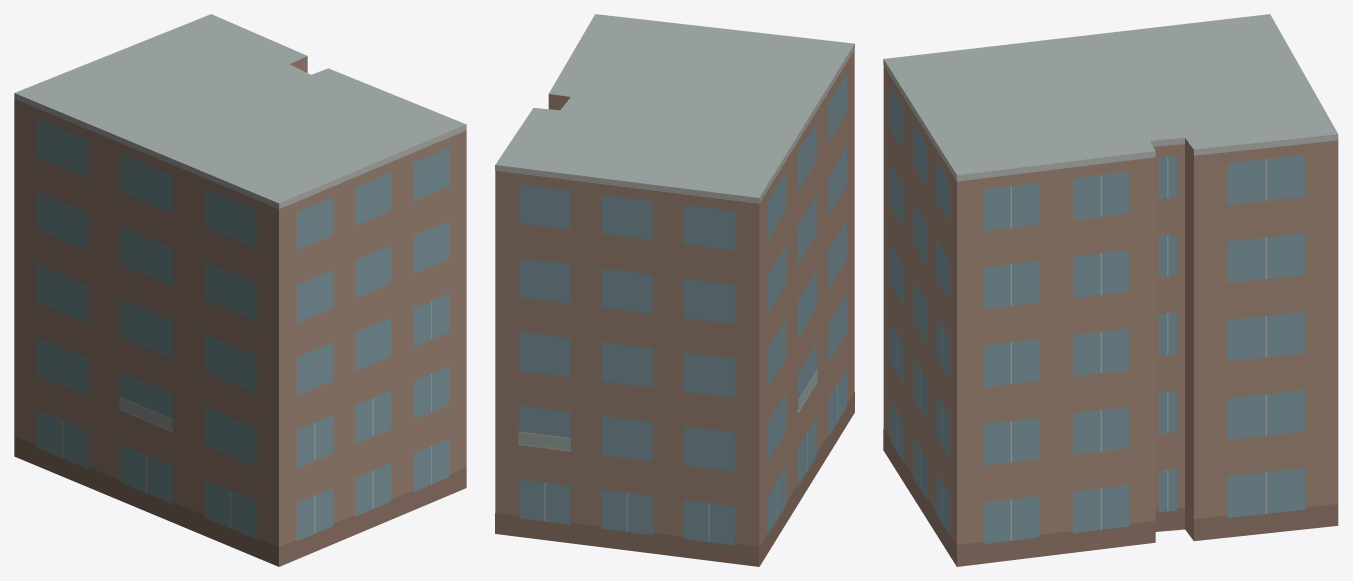
Rendered from survey-upis-32721331.glb.
3 renders of one model, left to right at view 1: azimuth 30°, elevation 25°; view 2: azimuth 150°, elevation 25°; view 3: azimuth 270°, elevation 25°, orthographic. The views are drawn at different scales.
Parts seen in each view (by area): view 1: survey-upis-32721331.tmp; view 2: survey-upis-32721331.tmp; view 3: survey-upis-32721331.tmp.
Part boxes in pixels (x1,y1,x2,y2): survey-upis-32721331.tmp: [14, 14, 466, 566]; survey-upis-32721331.tmp: [495, 14, 854, 566]; survey-upis-32721331.tmp: [883, 14, 1338, 566].
Size of the model in its own units: 13.67 by 15.45 by 16.28.
